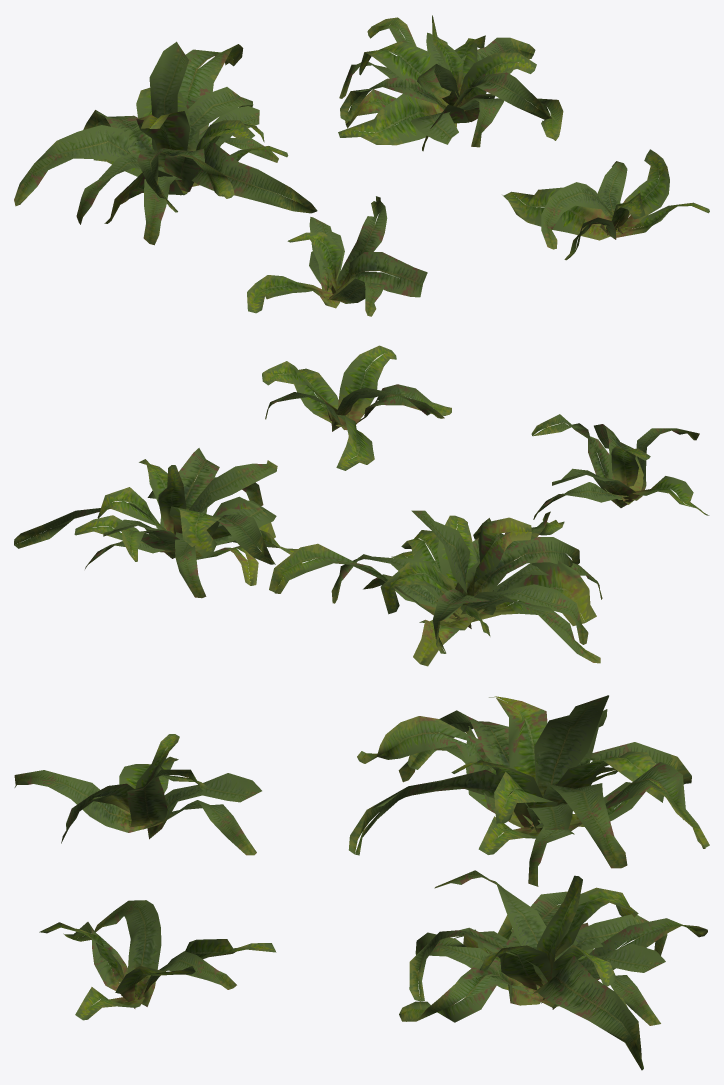
The model's file is fern_02.glb.
3 renders of one model, top to bottom at view 1: azimuth 30°, elevation 25°; view 2: azimuth 150°, elevation 25°; view 3: azimuth 270°, elevation 25°, orthographic. The views are drawn at different scales.
Parts seen in each view (by area): view 1: fern_02_b, fern_02_c, fern_02_d, fern_02_a; view 2: fern_02_b, fern_02_c, fern_02_d, fern_02_a; view 3: fern_02_b, fern_02_c, fern_02_a, fern_02_d.
Boxes of the visible parts, x1,y1,x2,y2 form: fern_02_b: (14, 41, 317, 245); fern_02_c: (338, 15, 563, 151); fern_02_d: (502, 149, 709, 260); fern_02_a: (247, 196, 427, 316); fern_02_b: (269, 510, 602, 666); fern_02_c: (14, 448, 309, 598); fern_02_d: (262, 345, 451, 470); fern_02_a: (531, 414, 709, 519); fern_02_b: (348, 695, 709, 886); fern_02_c: (399, 870, 707, 1070); fern_02_a: (14, 734, 261, 855); fern_02_d: (39, 900, 276, 1020).
Size of the model in its own units: 1.97 by 0.434 by 1.72.
Materials: 1 (1 with a texture image).
